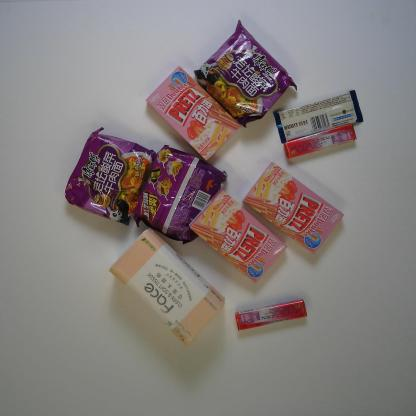Candy: (283, 124, 358, 160), (233, 298, 309, 331)
Chocolate: (272, 88, 364, 146)
Dessert: (242, 160, 342, 256), (190, 192, 290, 287), (144, 63, 242, 158)
Instant Noodles: (192, 20, 302, 131), (130, 144, 229, 243), (63, 126, 160, 225)
Tissue: (107, 228, 226, 348)
